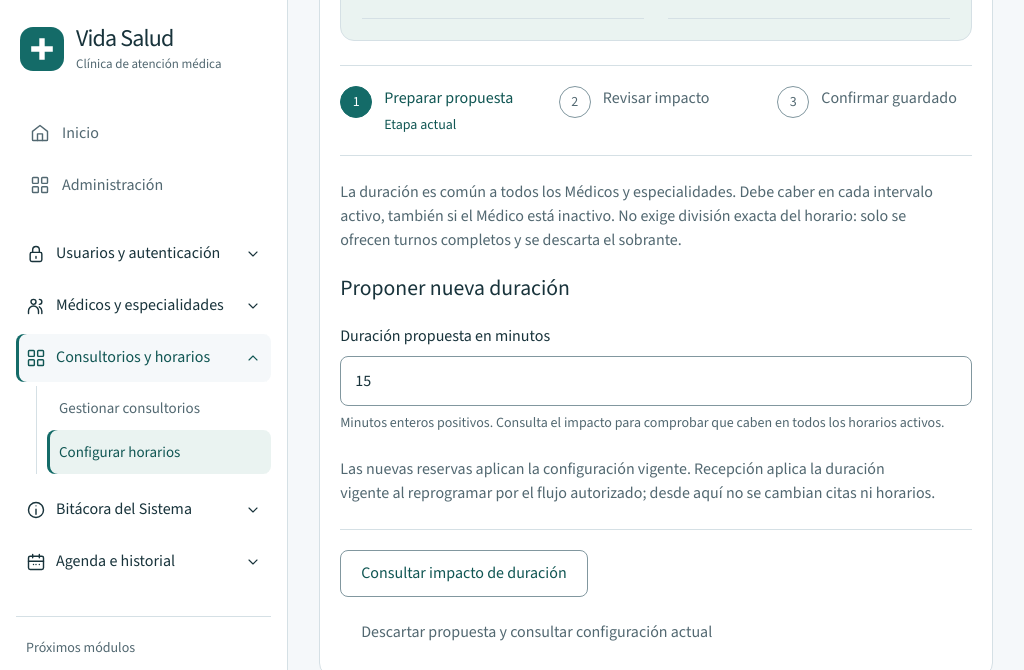
Test: impacto compatible exige confirmación, guarda versión global y reconsulta duración vigente
This screenshot has width=1024, height=670.
(page scrolled)
Replace the text in the field labelled "Duración propuesta en minutos" with "20" at (656, 381), box [340, 356, 972, 406]
Click the button "Consultar impacto de duración" at (464, 574), box [340, 550, 588, 597]
(page scrolled)
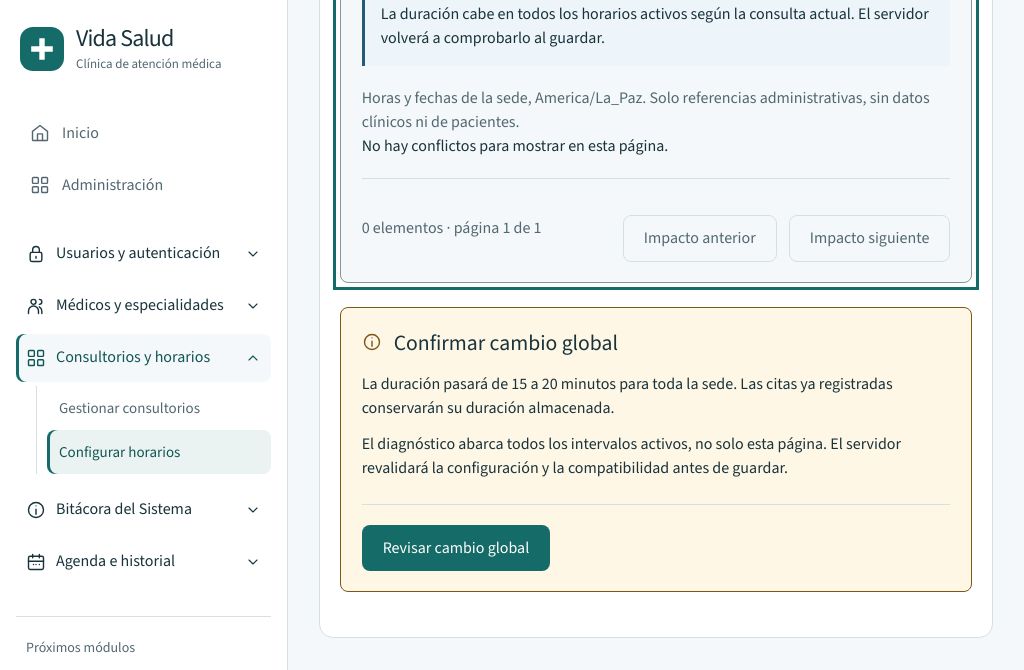
Click the button "Revisar cambio global" at (456, 548), box [362, 525, 550, 571]
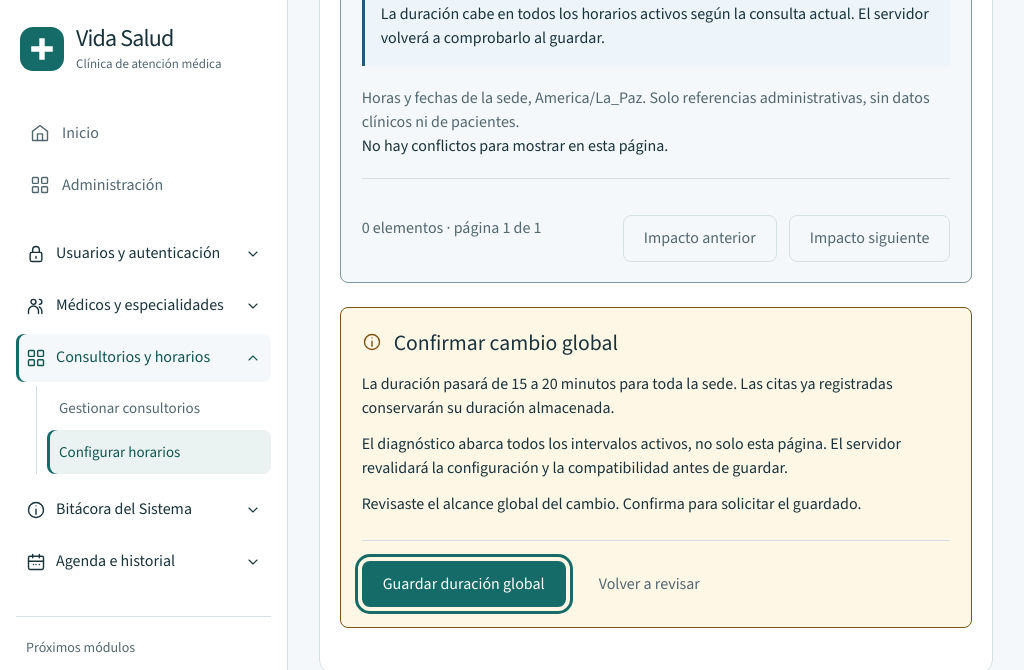
Click the button "Volver a revisar" at (649, 584), box [578, 561, 721, 607]
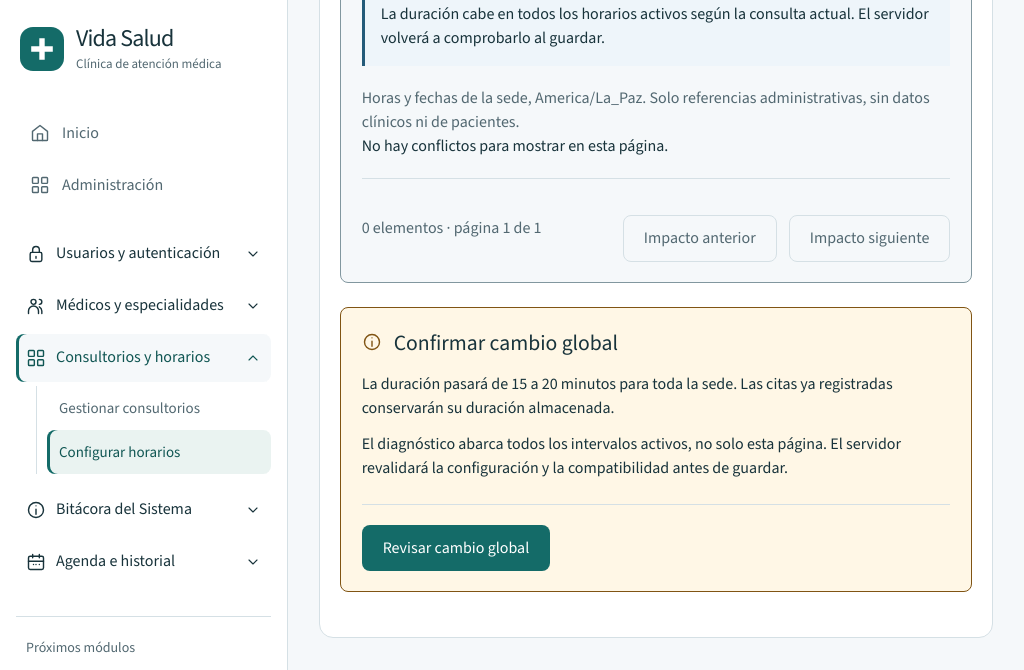
Click the button "Revisar cambio global" at (456, 548), box [362, 525, 550, 571]
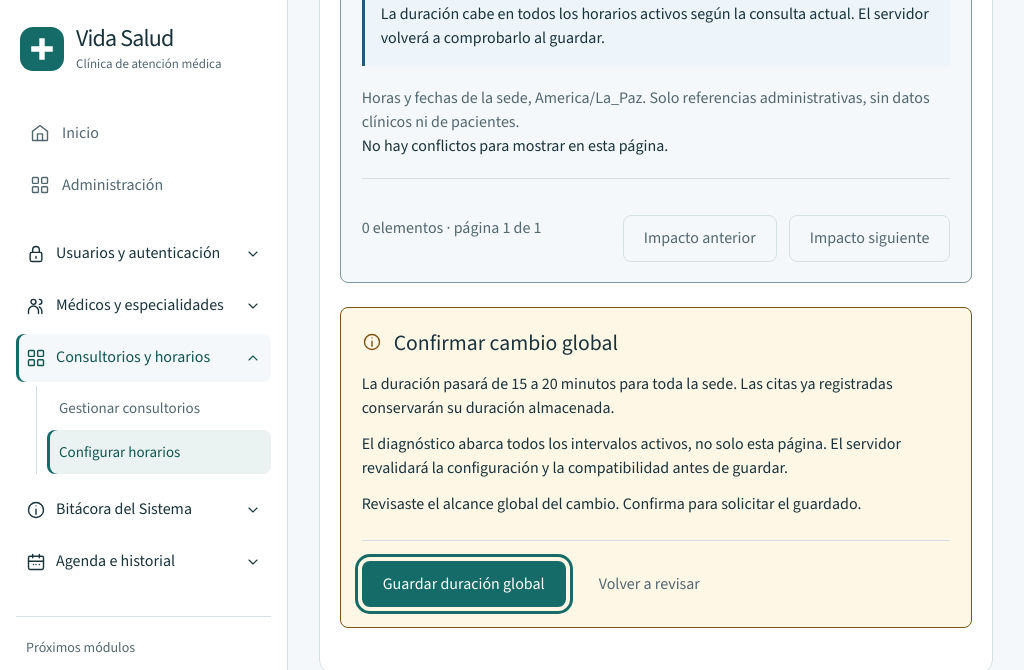
Click the button "Guardar duración global" at (464, 584), box [362, 561, 566, 607]
(page scrolled)
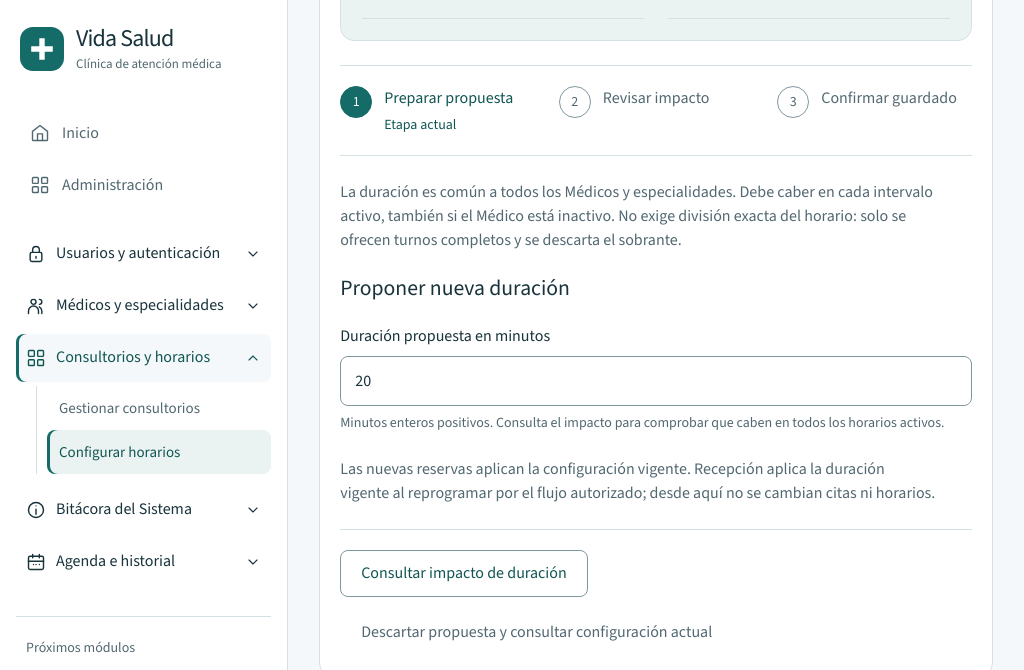
Replace the text in the field labelled "Duración propuesta en minutos" with "25" at (656, 381), box [340, 356, 972, 406]
Click the button "Consultar impacto de duración" at (464, 574), box [340, 550, 588, 597]
(page scrolled)
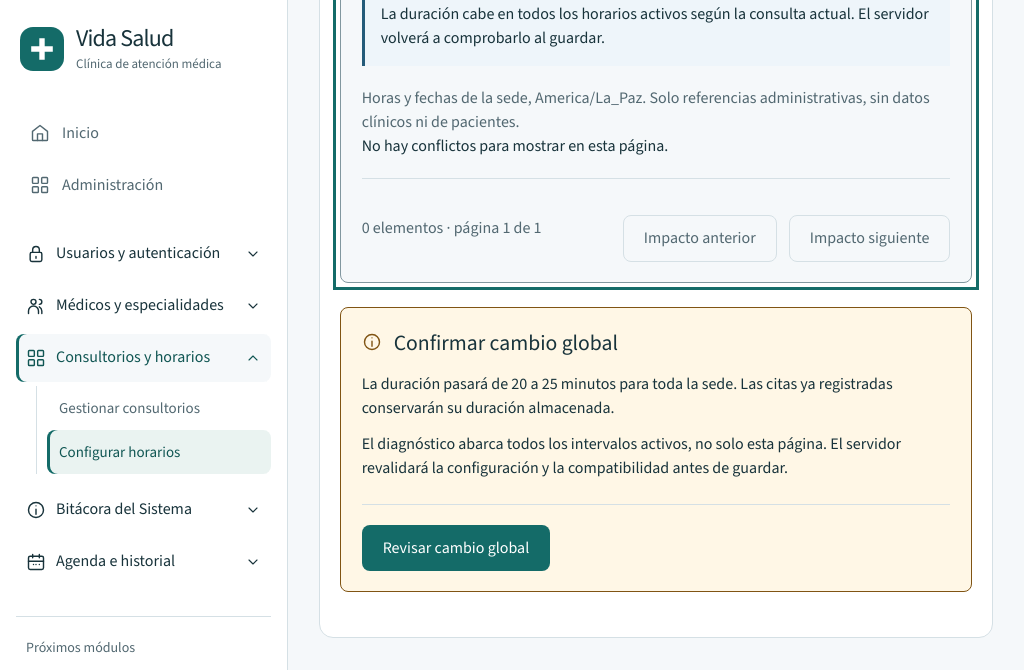
Now the text "Las citas ya registradas conservarán su duración almacenada" is shown, box [362, 373, 893, 418]
